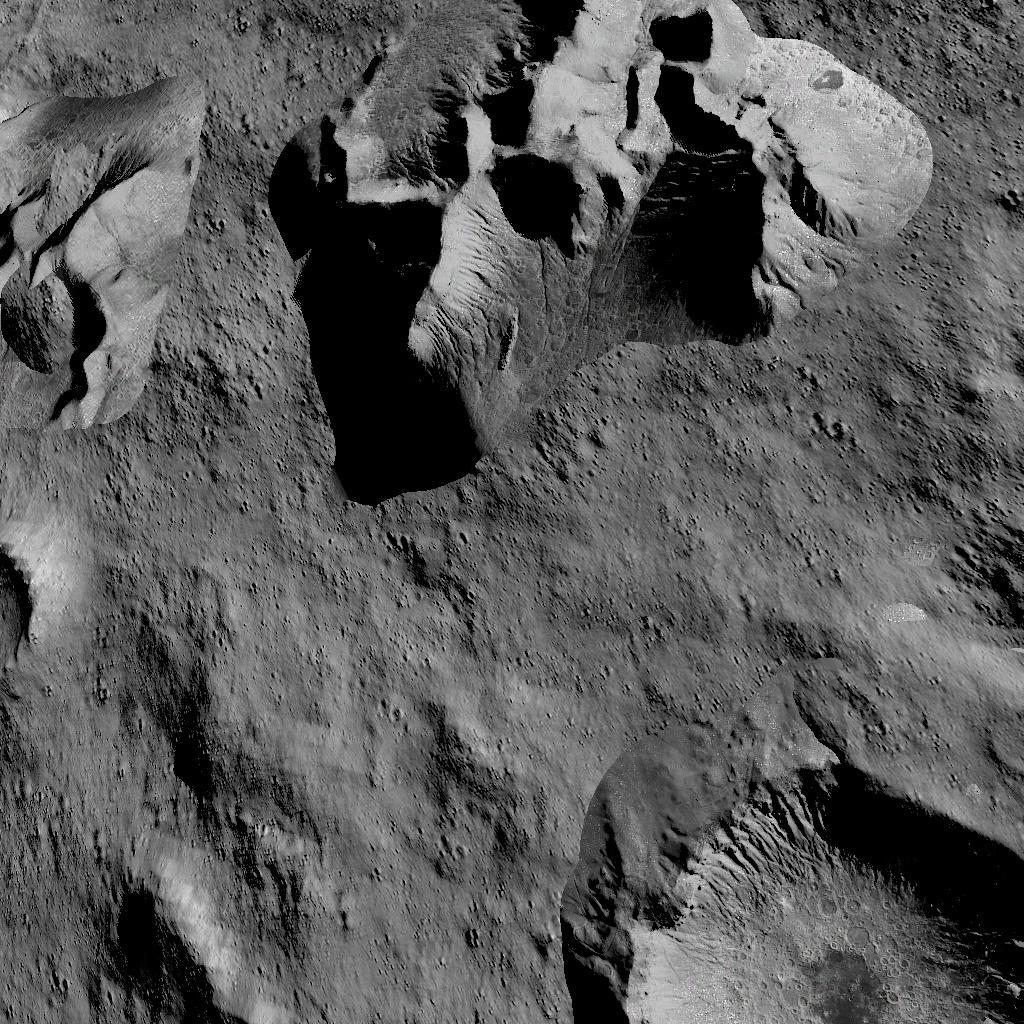Boulders: (256, 0, 942, 502), (0, 72, 213, 438)
Crater: (569, 738, 1024, 1022), (0, 523, 55, 692)
Plan surface: (267, 514, 964, 728), (280, 748, 551, 1024)
